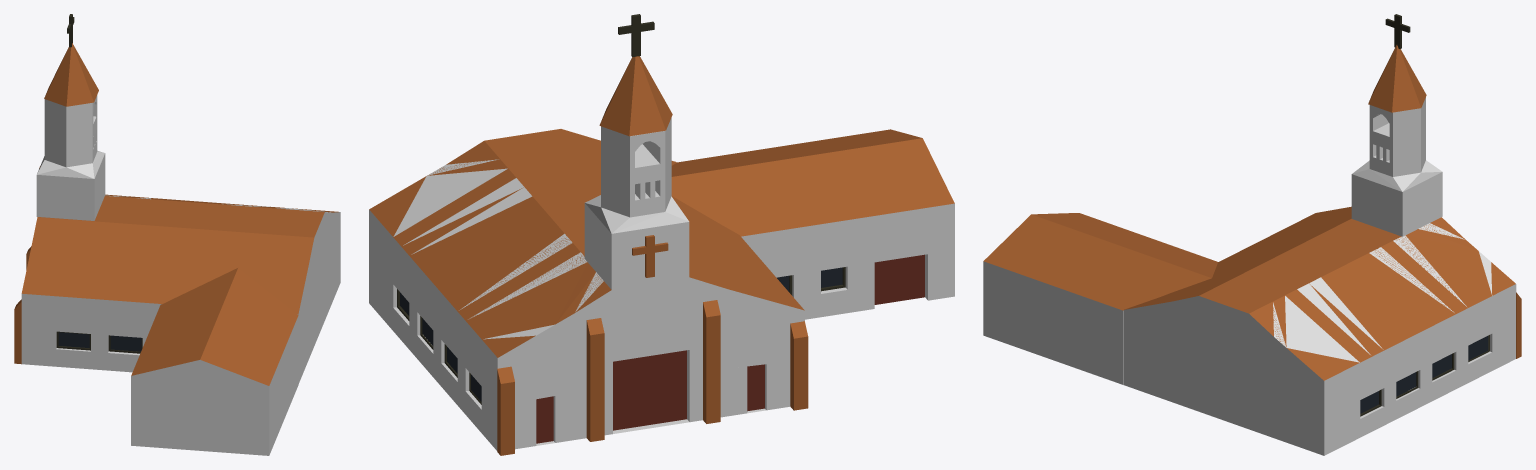
Rendered from iglesia.gltf.
The picture shows the model from 3 angles, left to right: view 1: azimuth 30°, elevation 25°; view 2: azimuth 150°, elevation 25°; view 3: azimuth 270°, elevation 25°; orthographic projection. The views are drawn at different scales.
Parts seen in each view (by area): view 1: Estructura, Cupula, Pilar 3; view 2: Estructura, Cupula, Pilar 2, Pilar 4, Pilar 3, Pilar, Cruz, Cruz baja; view 3: Estructura, Cupula.
Boxes of the visible parts, left/top/right/bottom form: Estructura: left=21, top=95, right=340, bottom=455; Cupula: left=44, top=43, right=98, bottom=106; Pilar 3: left=14, top=299, right=21, bottom=364; Estructura: left=369, top=117, right=954, bottom=450; Cupula: left=599, top=56, right=672, bottom=136; Pilar 2: left=586, top=318, right=604, bottom=441; Pilar 4: left=703, top=300, right=720, bottom=423; Pilar 3: left=790, top=321, right=808, bottom=410; Pilar: left=497, top=366, right=514, bottom=455; Cruz: left=618, top=14, right=654, bottom=57; Cruz baja: left=632, top=235, right=668, bottom=277; Estructura: left=983, top=97, right=1516, bottom=455; Cupula: left=1368, top=45, right=1426, bottom=112.
Bounding box in the file's own units: 5.68 × 4.95 × 7.59.
